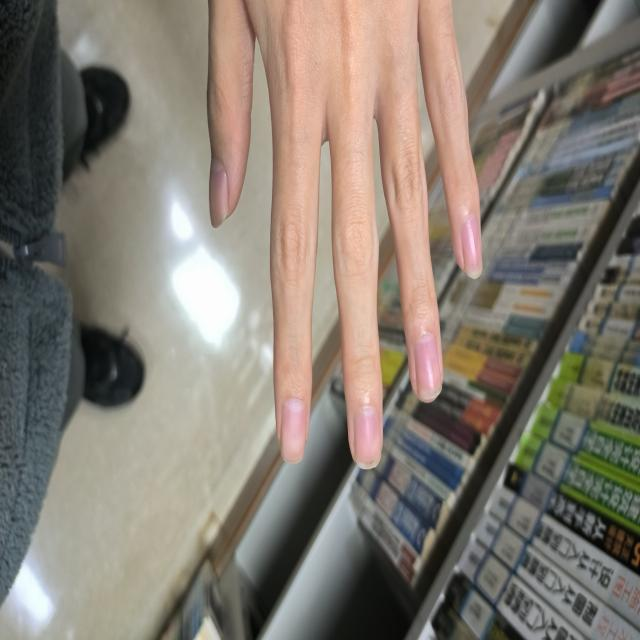Nail: (414, 333, 442, 400), (279, 400, 307, 465), (354, 407, 382, 469), (209, 158, 229, 228), (462, 214, 483, 278)
